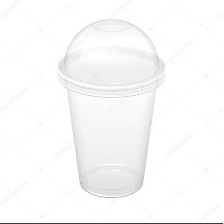glass: (50, 15, 171, 203)
